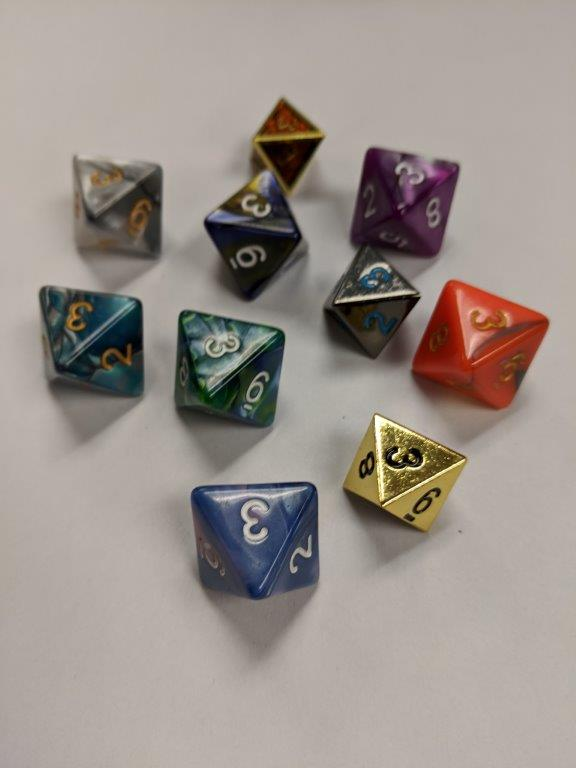d8-3: (417, 276, 553, 413), (342, 407, 470, 532), (190, 483, 320, 599), (205, 164, 308, 304), (349, 143, 462, 259), (176, 310, 284, 431), (38, 285, 146, 401), (322, 241, 421, 360), (70, 153, 164, 259), (250, 94, 328, 195)
